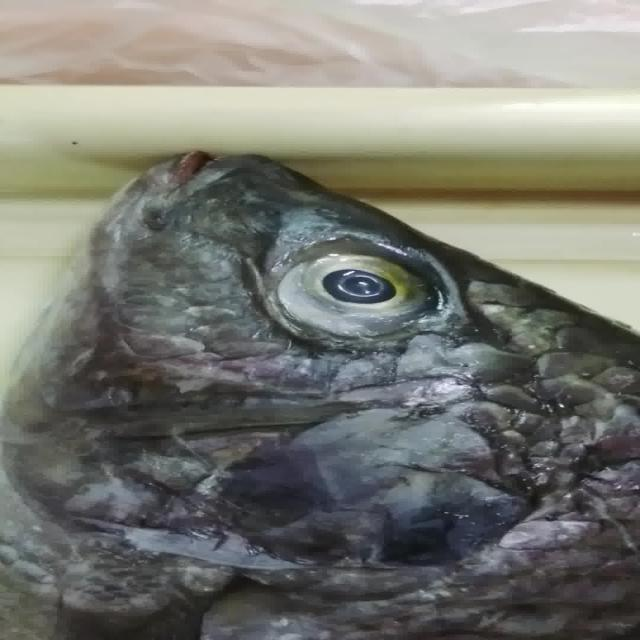Non-Fresh: (243, 220, 444, 352)
